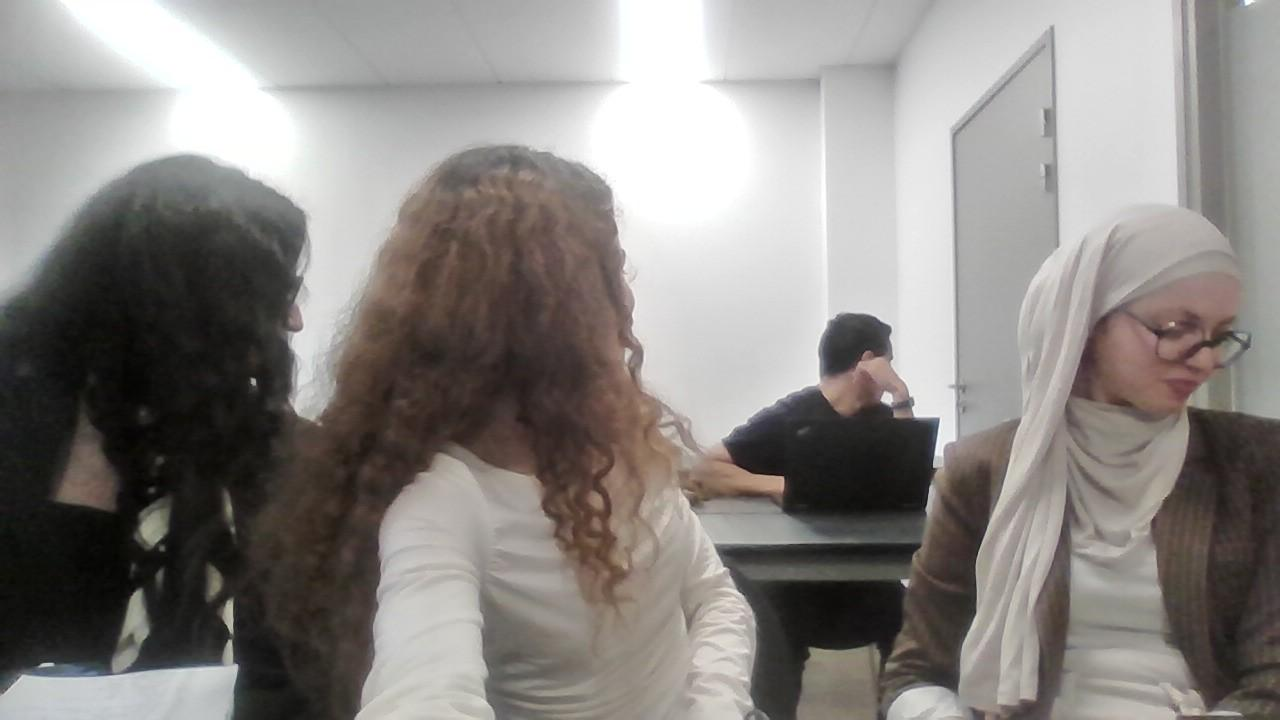Turning_Around: (320, 87, 730, 720), (11, 77, 331, 651), (959, 129, 1280, 679), (723, 289, 939, 507)
